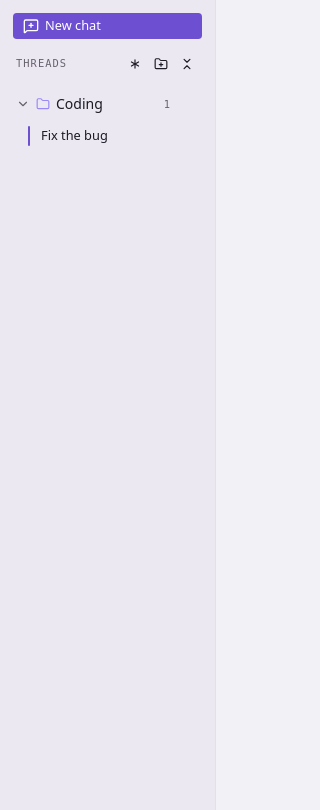
Test: ThreadSidebar › Projects (PLAN.md Phase 28) › collapsing a project hides its threads; expanding shows them again
Check: the button "Fix the bug" is shown, box [28,122,177,150]
Click the button with test id "project-header" at (94, 104), box [16,88,171,120]
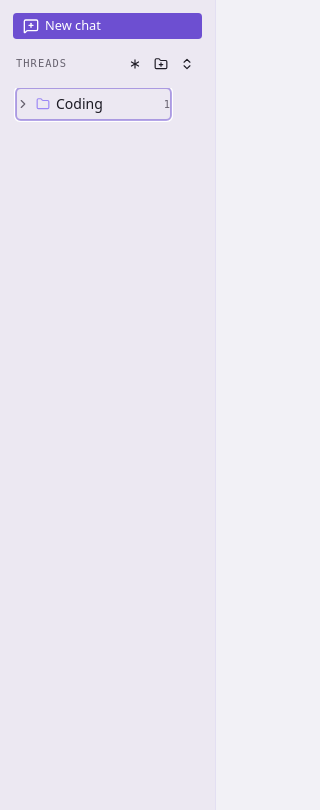
Check: the button "Fix the bug" is gone
Click the button with test id "project-header" at (94, 104), box [16,88,171,120]
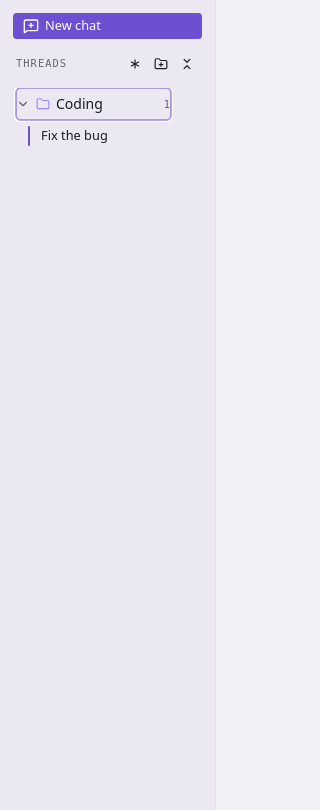
Check: the button "Fix the bug" is shown, box [28,122,177,150]
